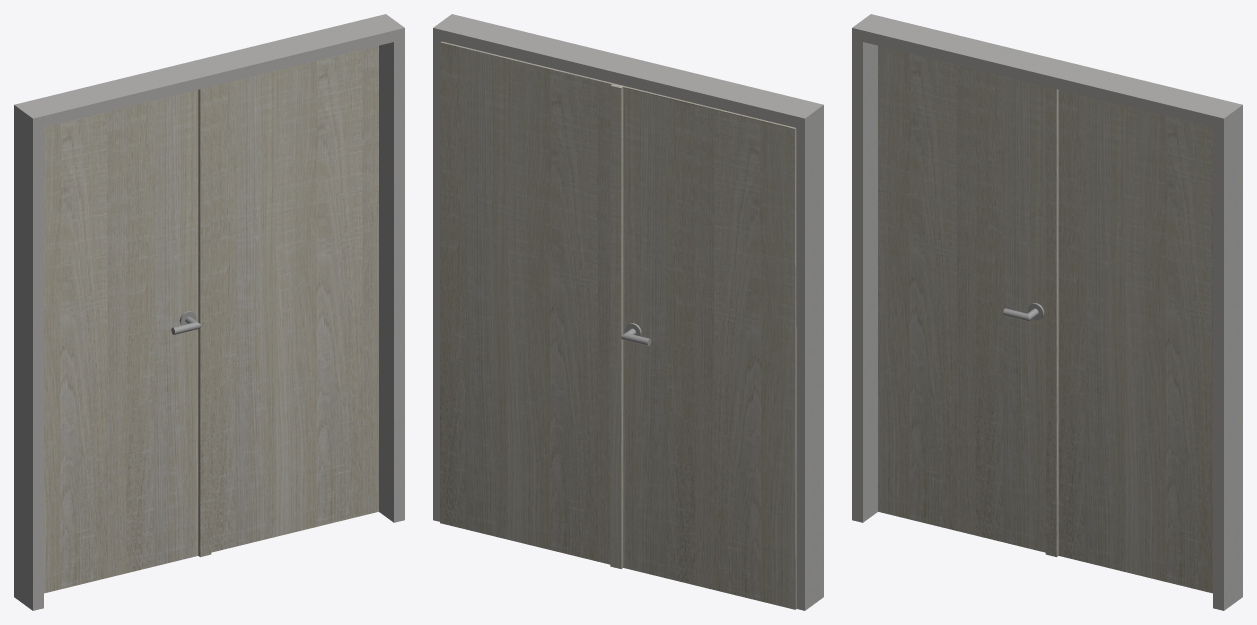
Rendered from door_160_close.dae.
The picture shows the model from 3 angles, left to right: view 1: azimuth 30°, elevation 25°; view 2: azimuth 150°, elevation 25°; view 3: azimuth 330°, elevation 25°; orthographic projection.
Visible parts, largest first — view 1: dvere_80_bezkliky, dvere_80_sklikou, futra_160; view 2: dvere_80_sklikou, dvere_80_bezkliky, futra_160; view 3: dvere_80_bezkliky, dvere_80_sklikou, futra_160.
Part boxes in pixels (<box>): dvere_80_bezkliky: <box>198,45,378,557</box>; dvere_80_sklikou: <box>44,90,201,593</box>; futra_160: <box>14,14,404,610</box>; dvere_80_sklikou: <box>610,84,796,609</box>; dvere_80_bezkliky: <box>440,41,618,564</box>; futra_160: <box>433,14,823,610</box>; dvere_80_bezkliky: <box>1045,86,1212,593</box>; dvere_80_sklikou: <box>878,45,1045,552</box>; futra_160: <box>852,14,1242,610</box>.
Size of the model in its own units: 1.7 by 0.236 by 2.15.
4 materials, 3 textured.
